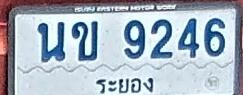2: (150, 18, 172, 58)
4: (178, 18, 198, 58)
6: (204, 17, 225, 56)
9: (124, 19, 145, 58)
A02: (71, 20, 98, 60)
A25: (37, 21, 65, 62)
RYG: (89, 75, 156, 95)
